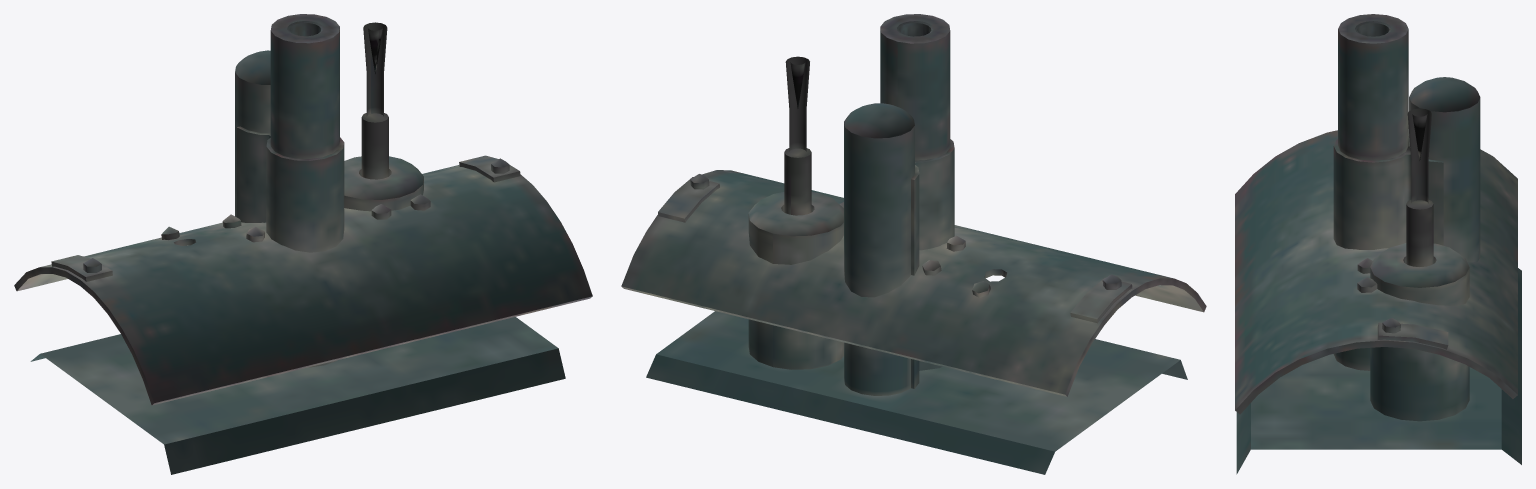
File: Gun_01.glb
3 renders of one model, left to right at view 1: azimuth 30°, elevation 25°; view 2: azimuth 150°, elevation 25°; view 3: azimuth 270°, elevation 25°, orthographic.
Parts seen in each view (by area): view 1: set_0_group_0; view 2: set_0_group_0; view 3: set_0_group_0.
Part boxes in pixels (x1,y1,x2,y2): set_0_group_0: [14, 14, 592, 474]; set_0_group_0: [621, 14, 1206, 474]; set_0_group_0: [1235, 14, 1521, 474].
Size of the model in its own units: 0.58 by 0.4392 by 0.3253.
Materials: 1 (1 with a texture image).
